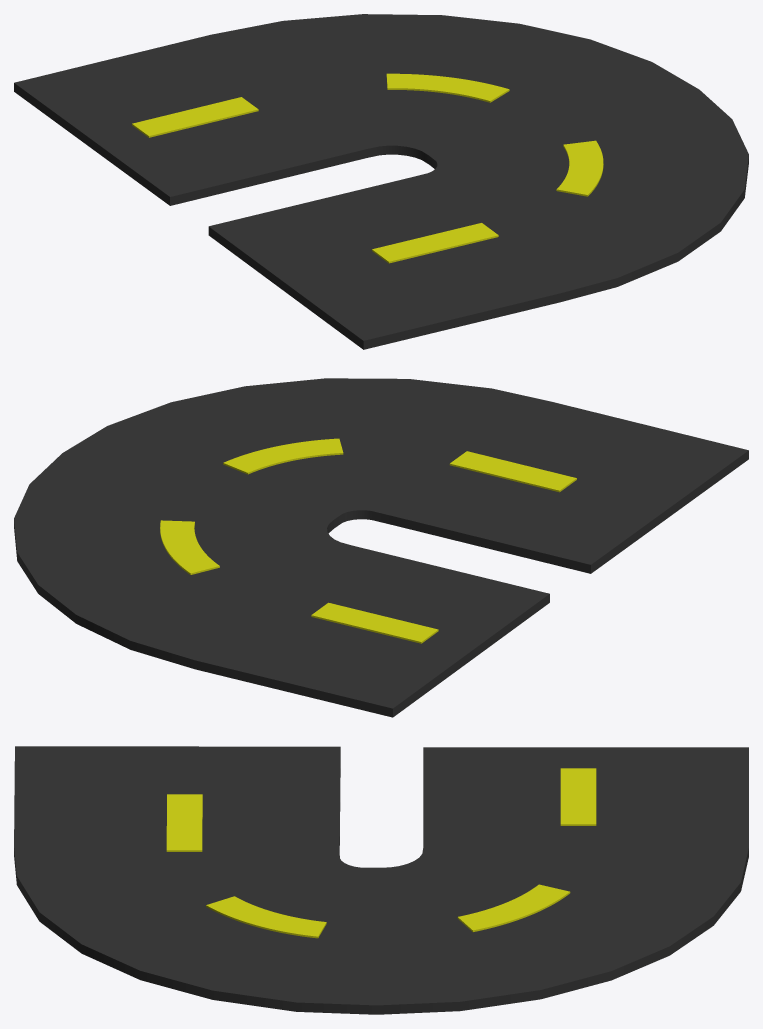
Rendered from road u turn.fbx.
3 renders of one model, top to bottom at view 1: azimuth 30°, elevation 25°; view 2: azimuth 150°, elevation 25°; view 3: azimuth 270°, elevation 25°, orthographic. The views are drawn at different scales.
Visible parts, largest first — view 1: box005; view 2: box005; view 3: box005.
Part boxes in pixels (x1=…): box005: x1=14, y1=14, x2=748, y2=349; box005: x1=14, y1=378, x2=748, y2=717; box005: x1=14, y1=746, x2=748, y2=1014.
Bounding box in the file's own units: 183 × 4.27 × 220.
